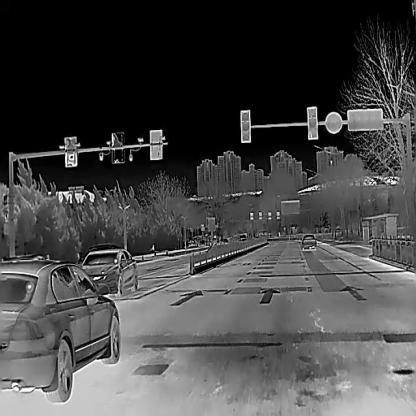car: (0, 258, 121, 403), (78, 247, 138, 297), (300, 233, 318, 250)
